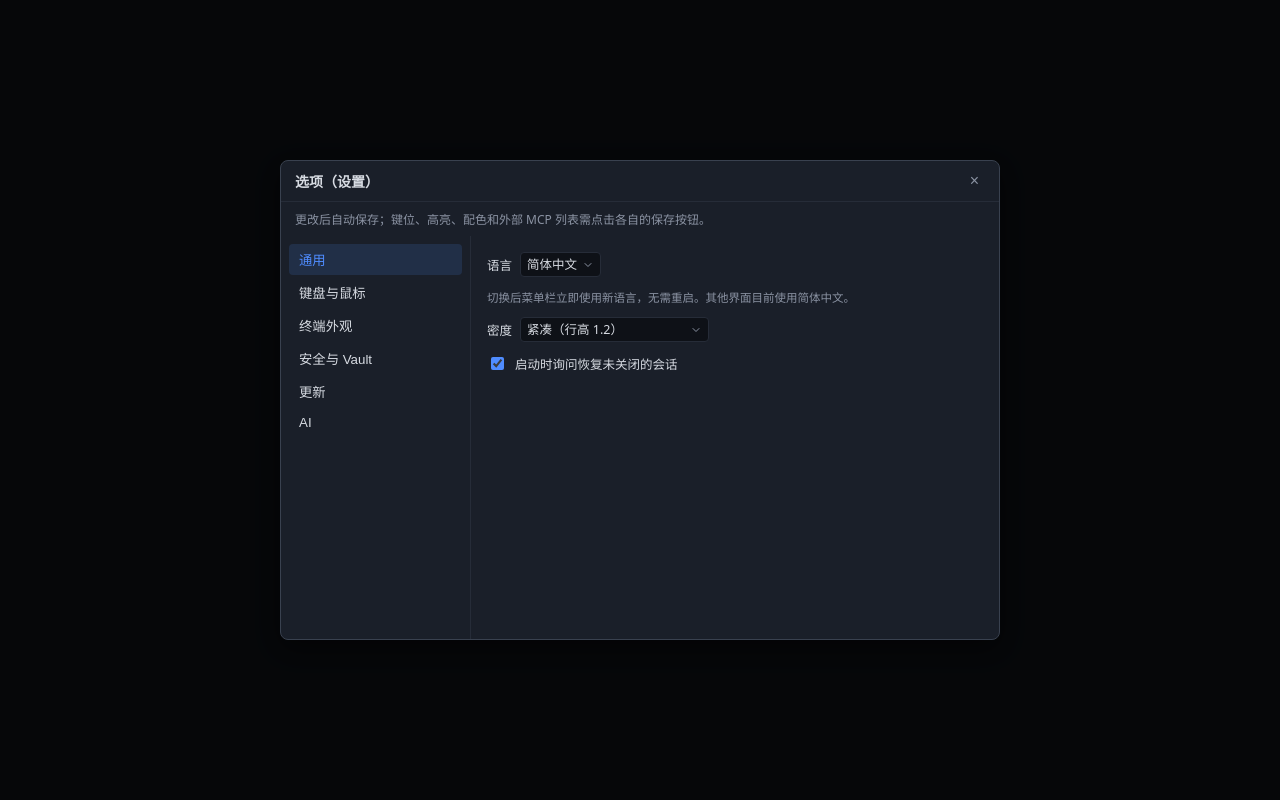
Scenario: SettingsDialog 设置回读 › 重启后 bell 行为显示库里的值
Click the tab "终端外观". click: (376, 326)
box: [289,310,462,341]
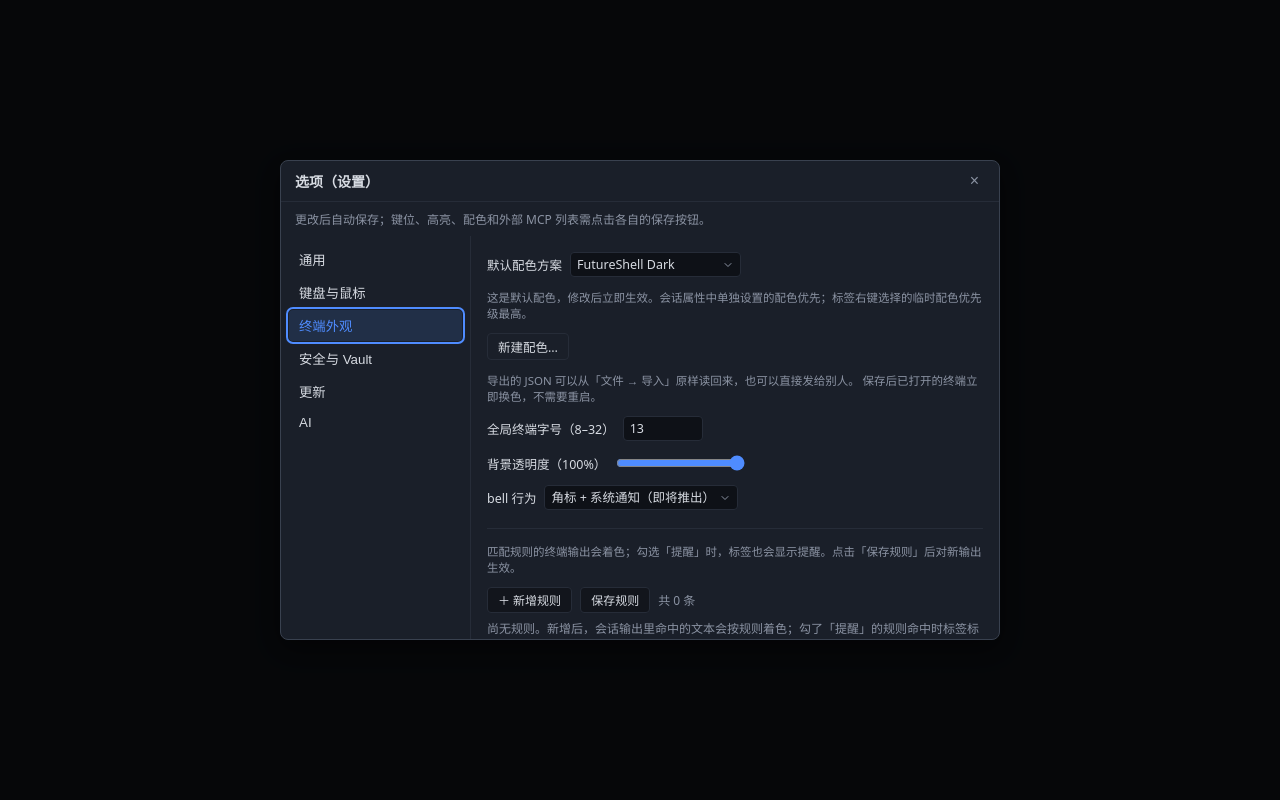
Expected: the dropdown with test id "set-bell" shows "角标 + 系统通知（即将推出）", [544,485,738,510]
